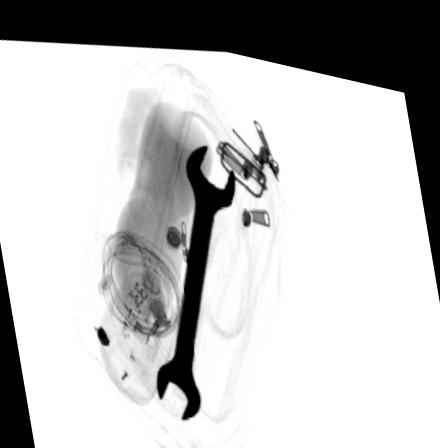Wrench: (155, 132, 237, 413)
